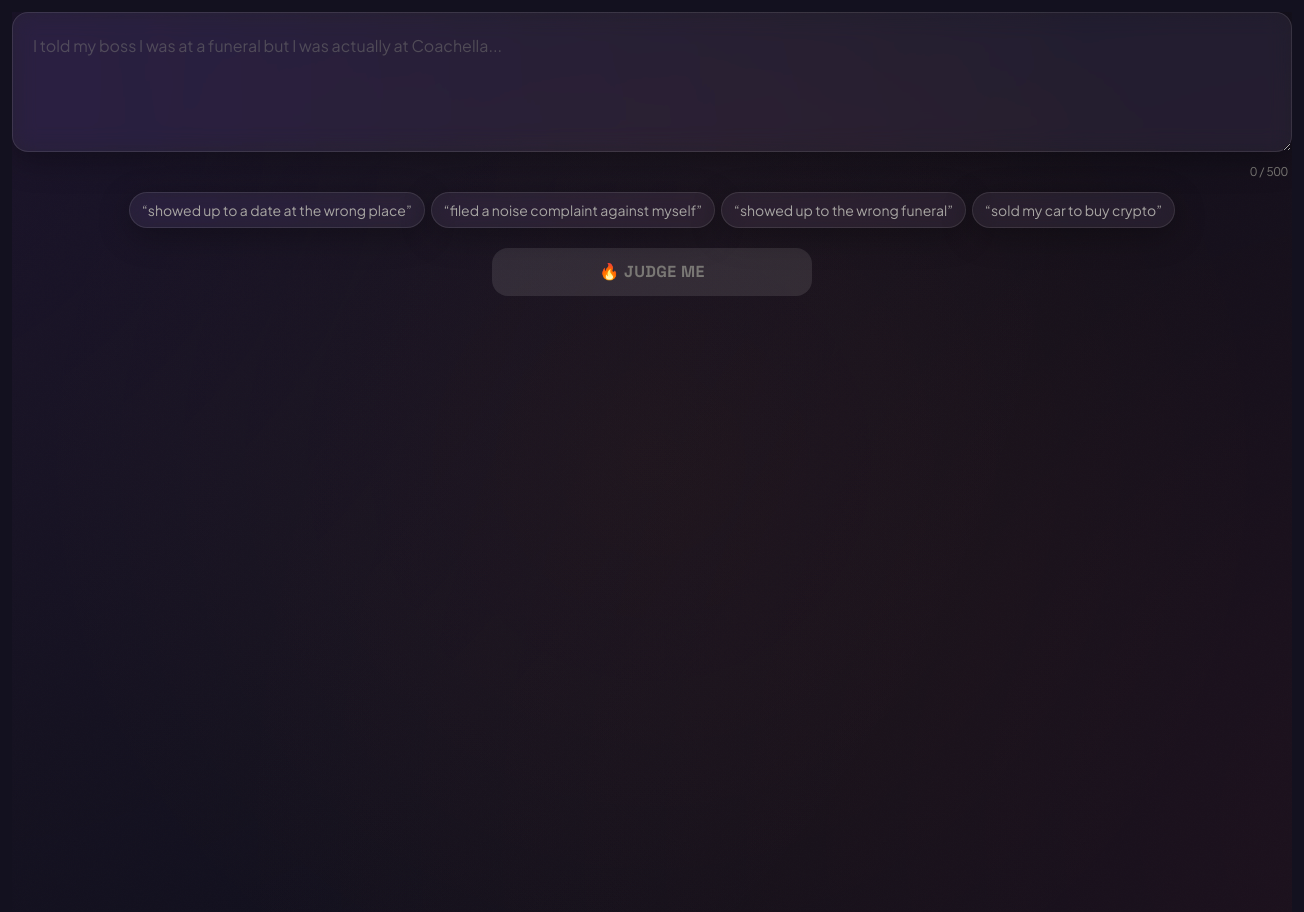
Scenario: InputForm › shows min hint when 1-9 chars typed
Type "Hey" into the text box with placeholder "I told my boss I was at a funeral".
click(652, 82); type("Hey")  # box [12,12,1292,152]
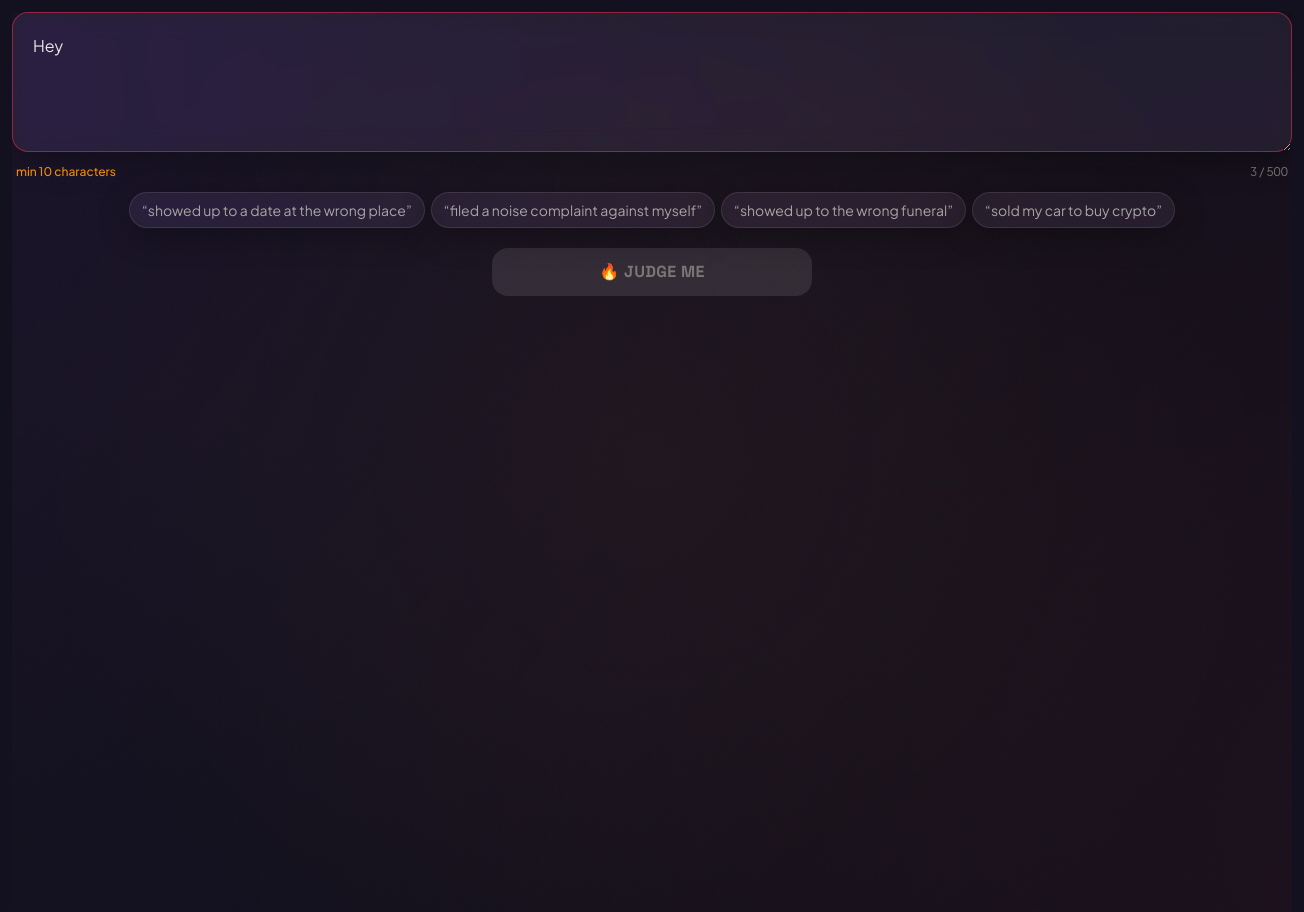
Check: the text "min 10 characters" is shown, box [16,164,116,180]
